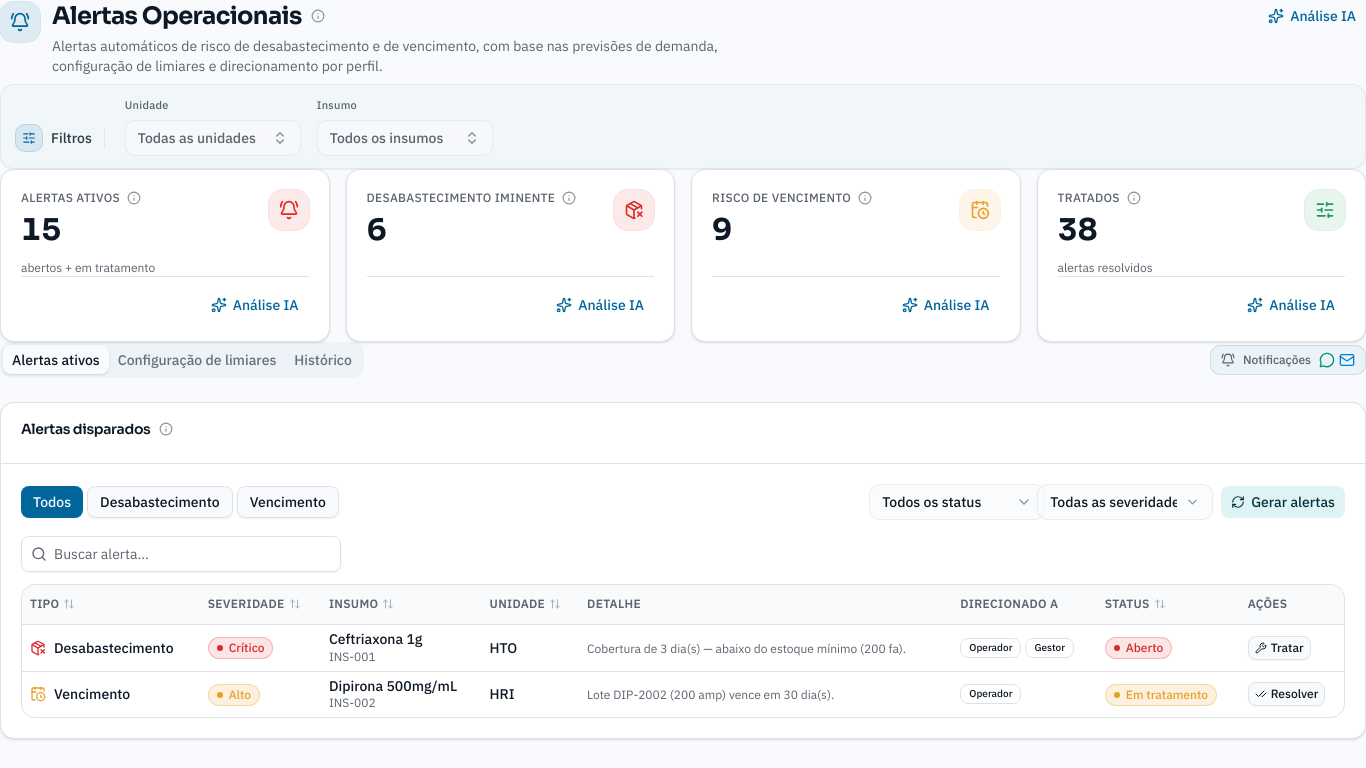
Test: AlertasPage › aba de limiares carrega a configuração real e o Gestor salva
Click the tab "Configuração de limiares".
click(197, 360)  # box [109,345,285,374]
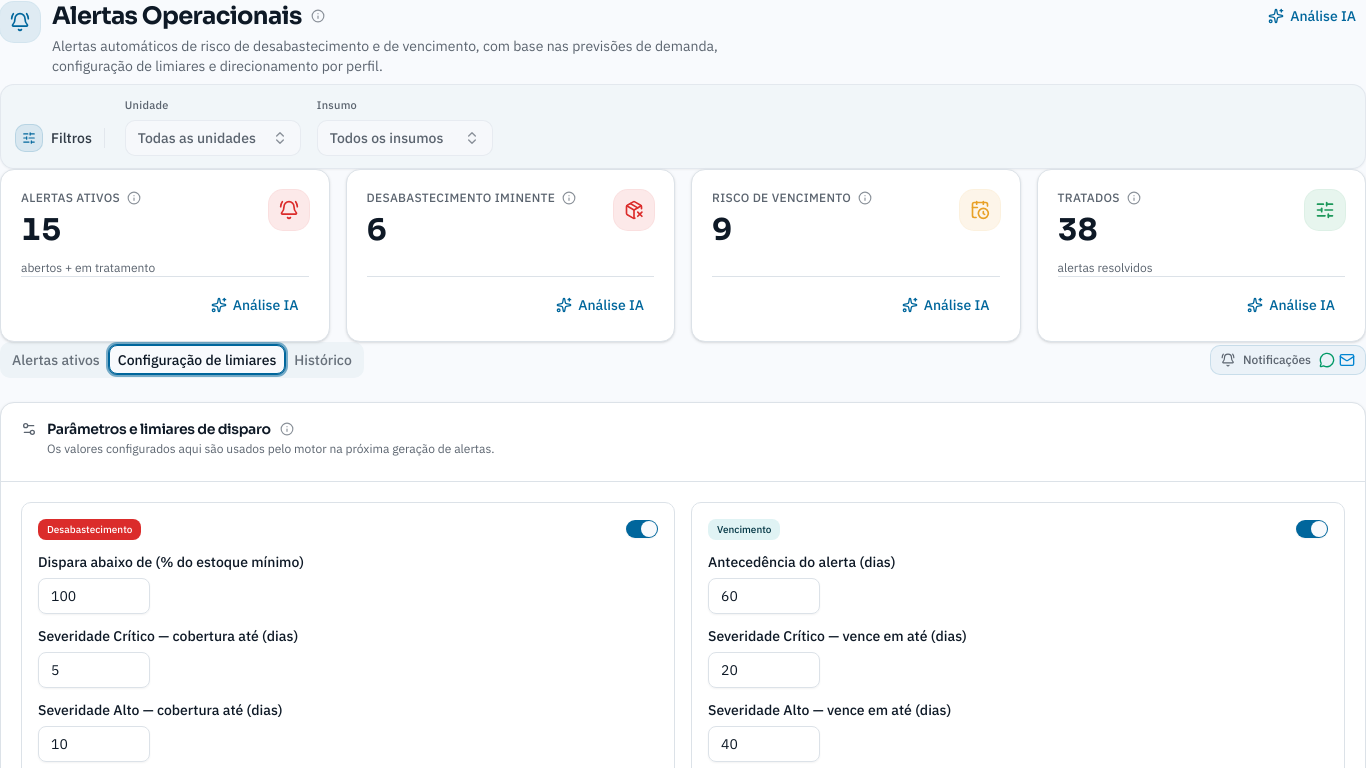
Now the number field labelled "Dispara abaixo de (% do estoque mínimo)" holds "100"
Replace the text in the number field labelled "Dispara abaixo de (% do estoque mínimo)" with "120" at (94, 596), box [38,578,150,614]
(page scrolled)
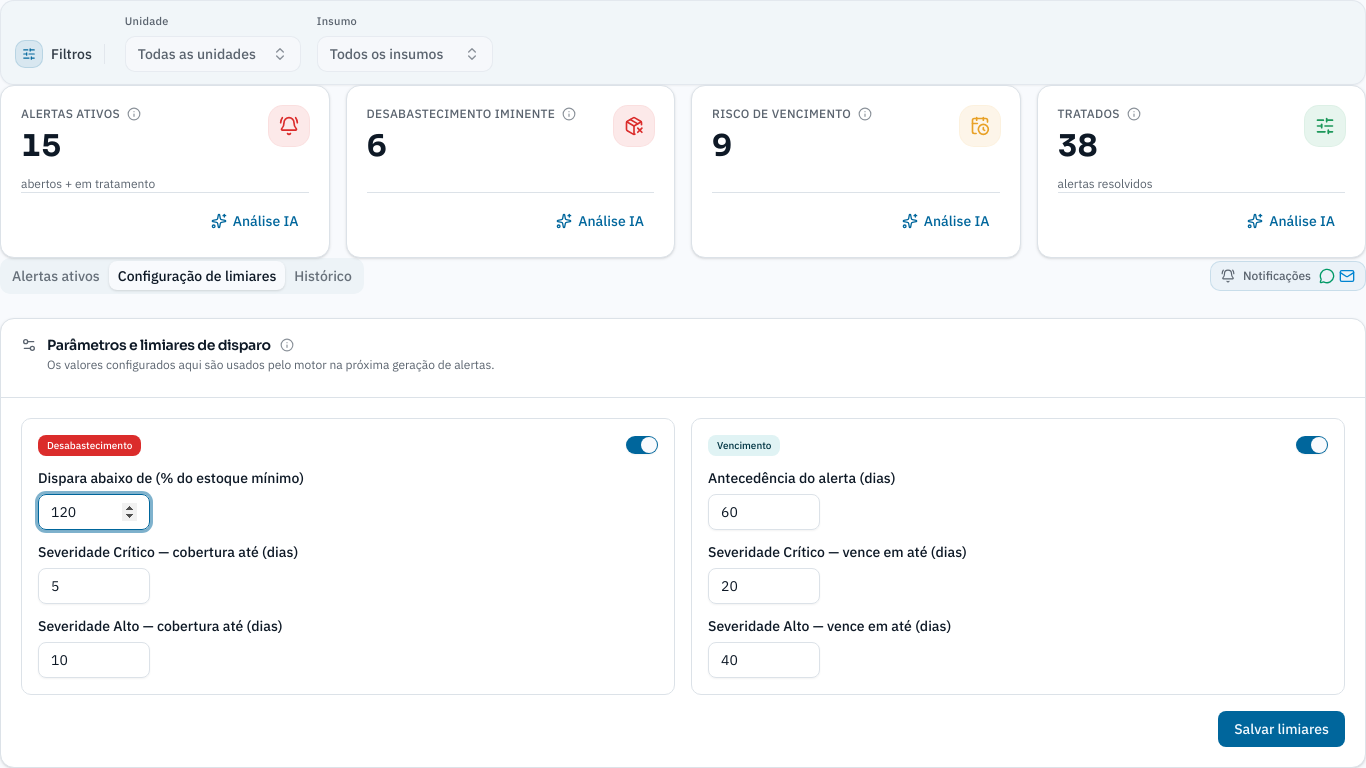
Click the button "Salvar limiares".
click(1282, 728)  # box [1218,710,1345,746]
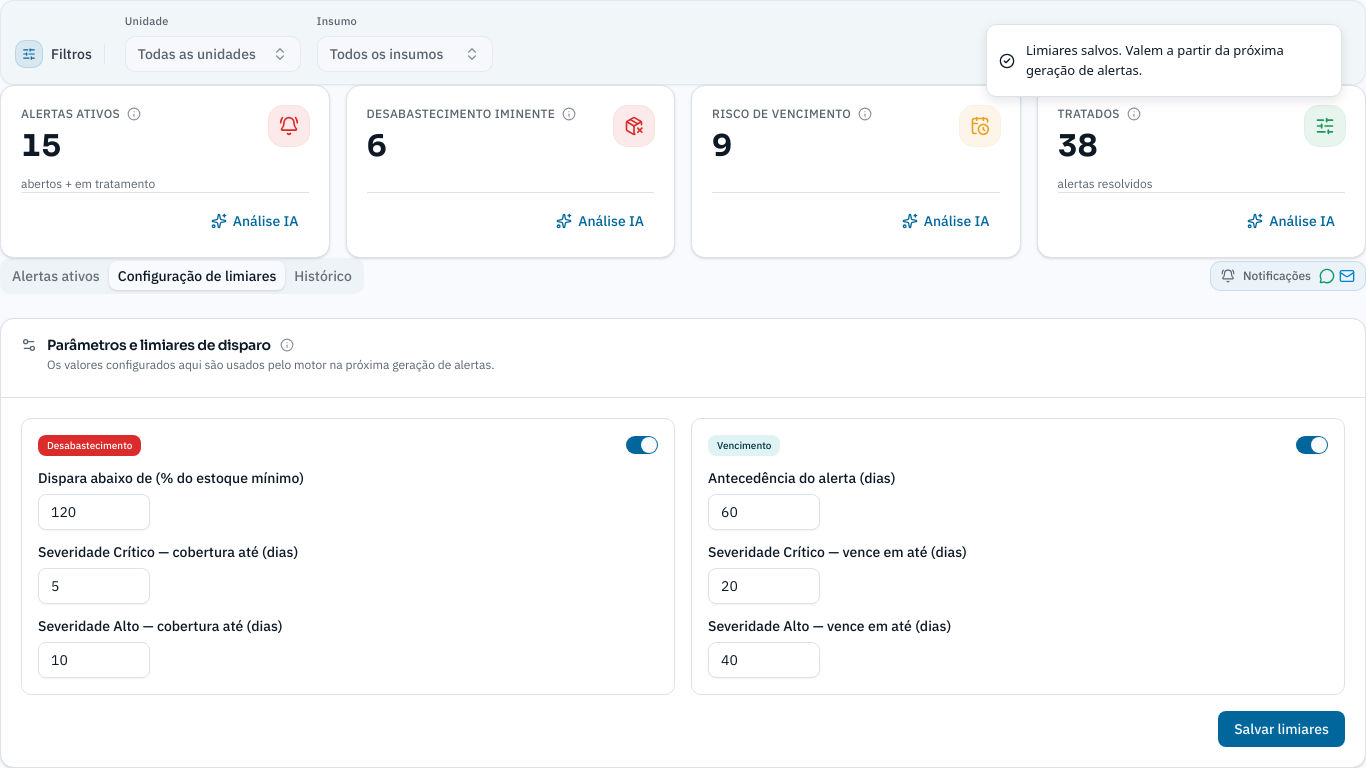
Now the text "Limiares salvos. Valem a partir da próxima geração de alertas." is shown, box [1026,41,1325,80]
